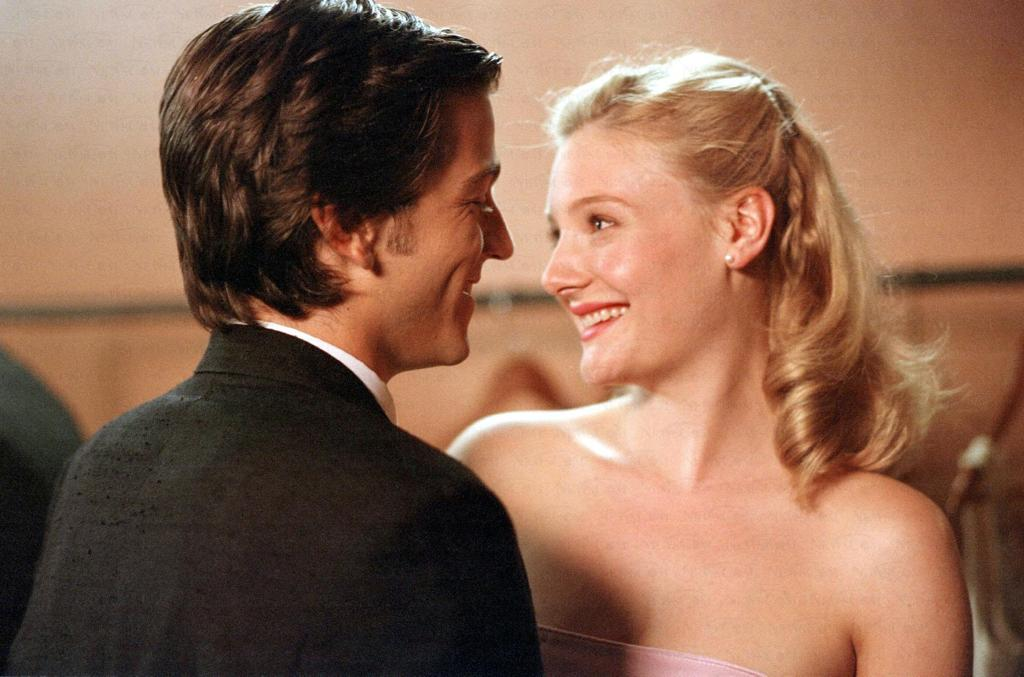face: (540, 96, 718, 384), (366, 80, 514, 366)
